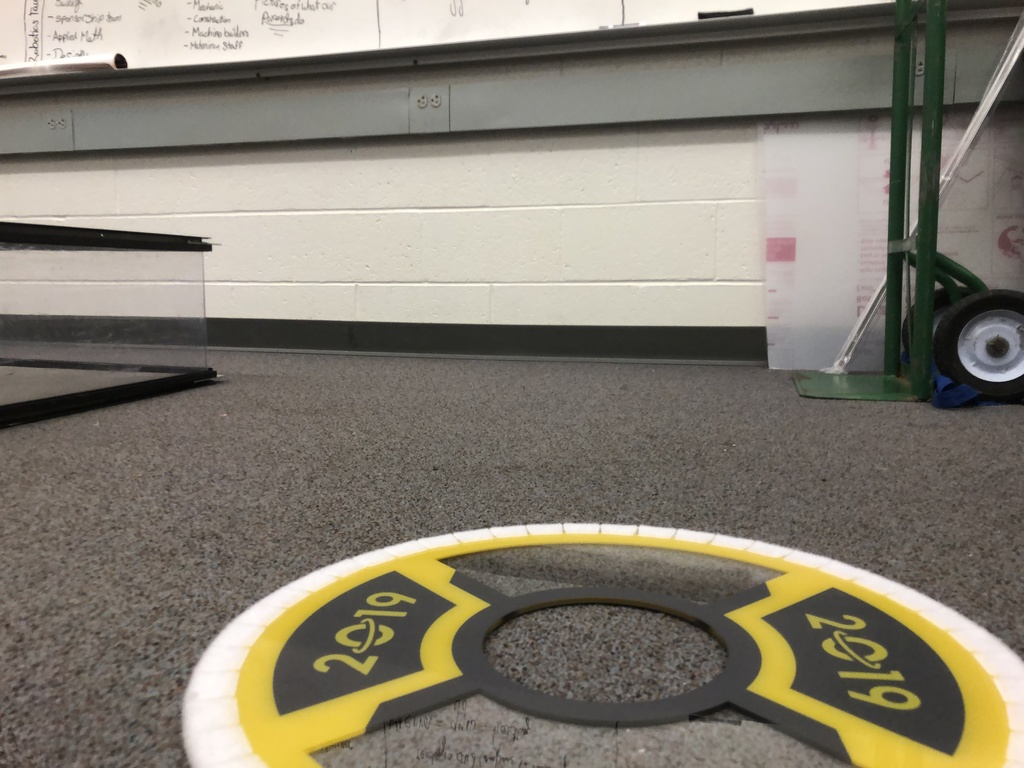hatch_panel: (160, 515, 1024, 768)
